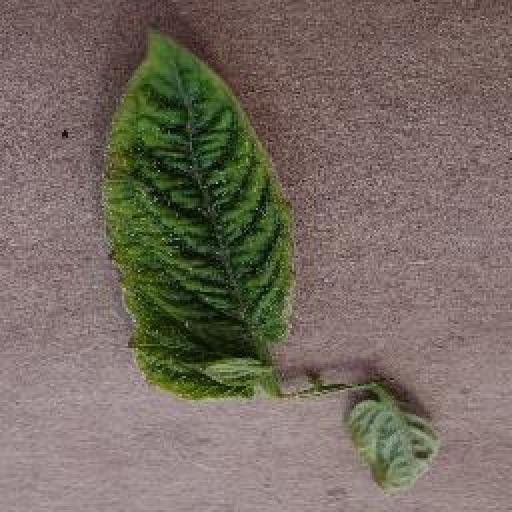disease_tomato: (106, 31, 298, 400)
